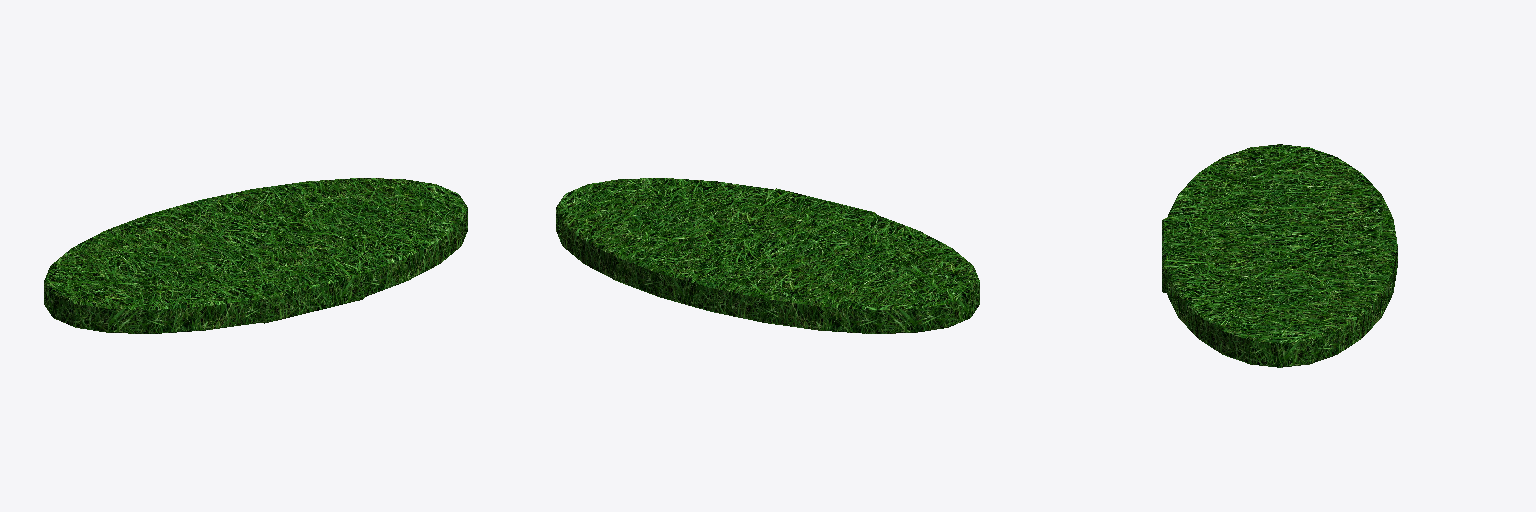
3 renders of one model, left to right at view 1: azimuth 30°, elevation 25°; view 2: azimuth 150°, elevation 25°; view 3: azimuth 270°, elevation 25°, orthographic.
Visible parts, largest first — view 1: Cylinder; view 2: Cylinder; view 3: Cylinder.
Boxes of the visible parts, box(x1,y1,x2,y2) form: Cylinder: box(44, 178, 467, 333); Cylinder: box(556, 178, 979, 333); Cylinder: box(1162, 144, 1397, 367).
Size of the model in its own units: 8 by 0.5 by 4.
1 materials, 1 textured.